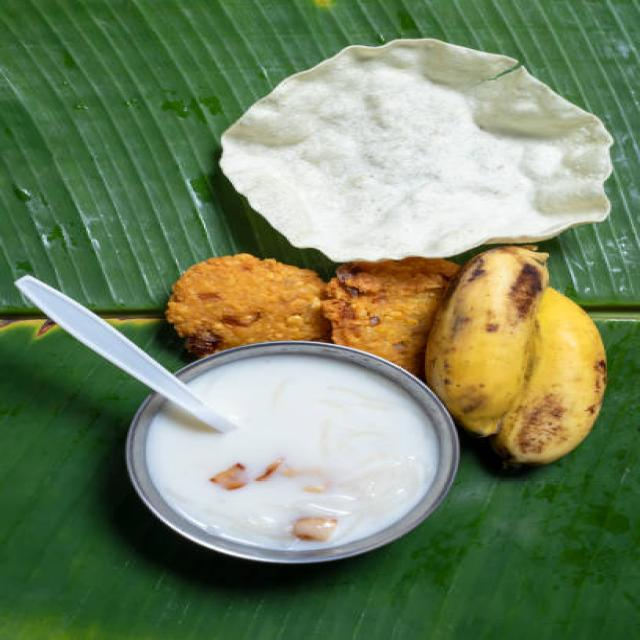BANANA: (422, 248, 610, 462)
PAPADAM: (230, 42, 609, 258)
VADA: (163, 253, 466, 379)
